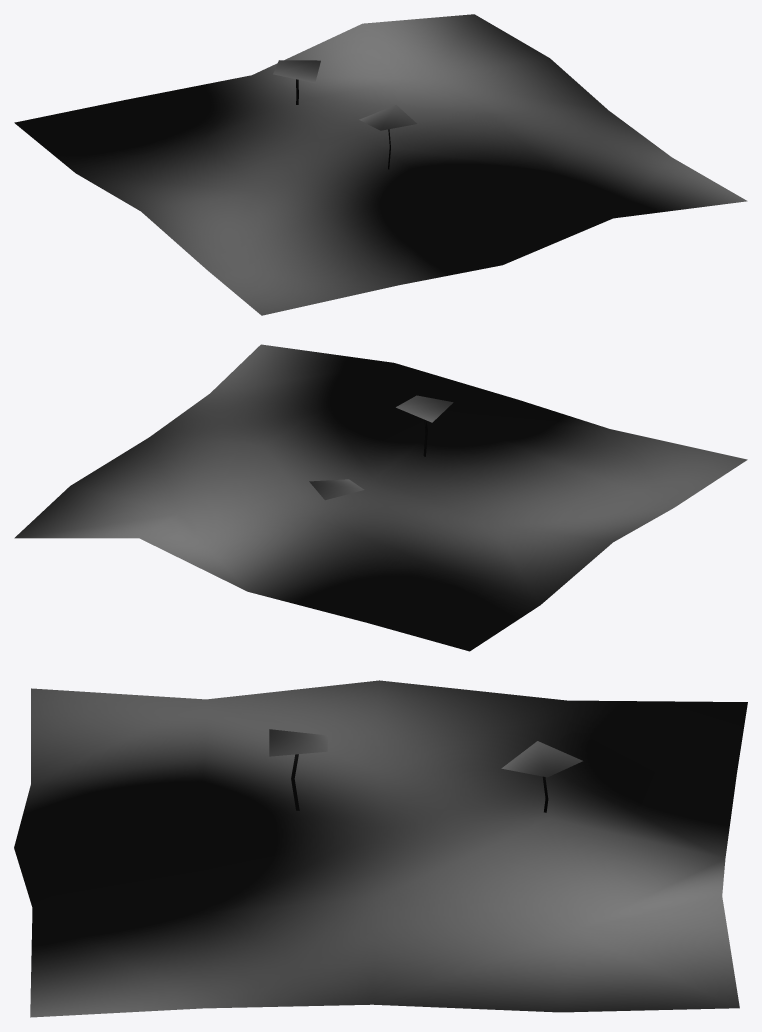
File: SM_Debris_Plane_014.fbx
The picture shows the model from 3 angles, top to bottom: view 1: azimuth 30°, elevation 25°; view 2: azimuth 150°, elevation 25°; view 3: azimuth 270°, elevation 25°; orthographic projection. The views are drawn at different scales.
Visible parts, largest first — view 1: SM_Debris_Plane_014; view 2: SM_Debris_Plane_014; view 3: SM_Debris_Plane_014.
Part boxes in pixels (x1,y1,x2,y2): SM_Debris_Plane_014: [14, 14, 747, 315]; SM_Debris_Plane_014: [14, 344, 747, 651]; SM_Debris_Plane_014: [14, 680, 747, 1017].
Bounding box in the file's own units: 65.9 × 63.13 × 10.05.
1 material, 1 textured.
